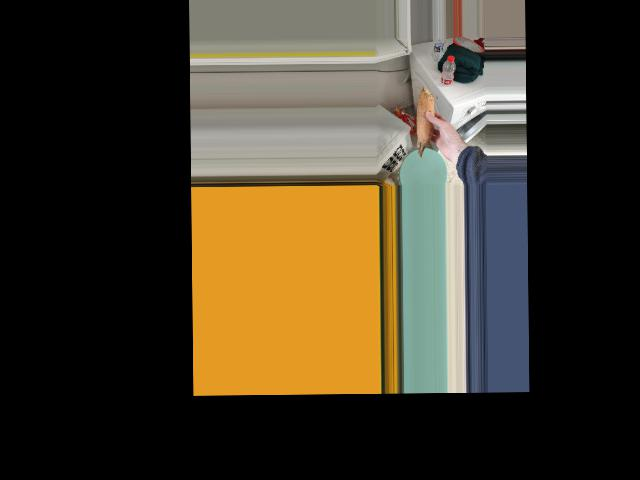sweet_potato: (414, 92, 438, 152)
